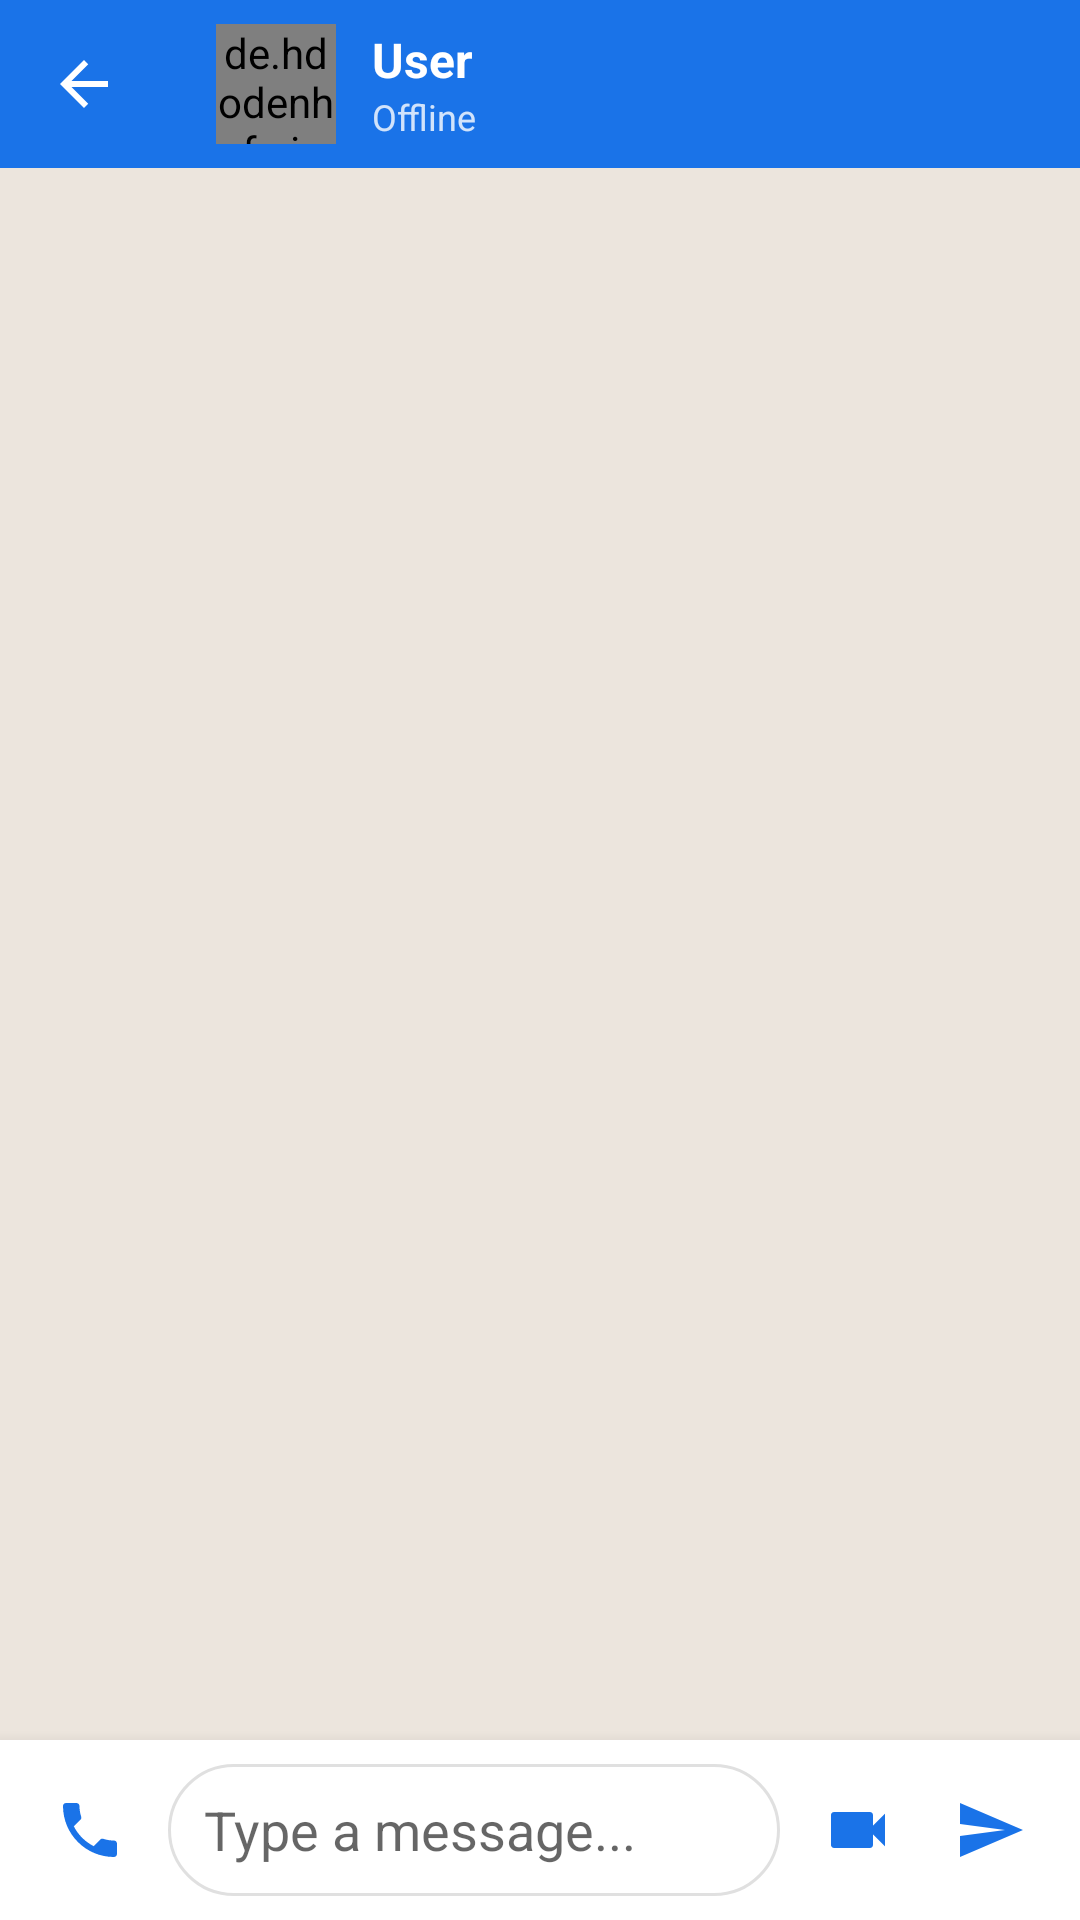

Named icons in this screenshot (1080*1920) and their bounding boxes, [left=x1, top=y1, right=x2, bottom=y2]:
Send: [left=960, top=1803, right=1023, bottom=1857]
Video Call: [left=831, top=1812, right=885, bottom=1848]
Voice Call: [left=63, top=1803, right=117, bottom=1857]
